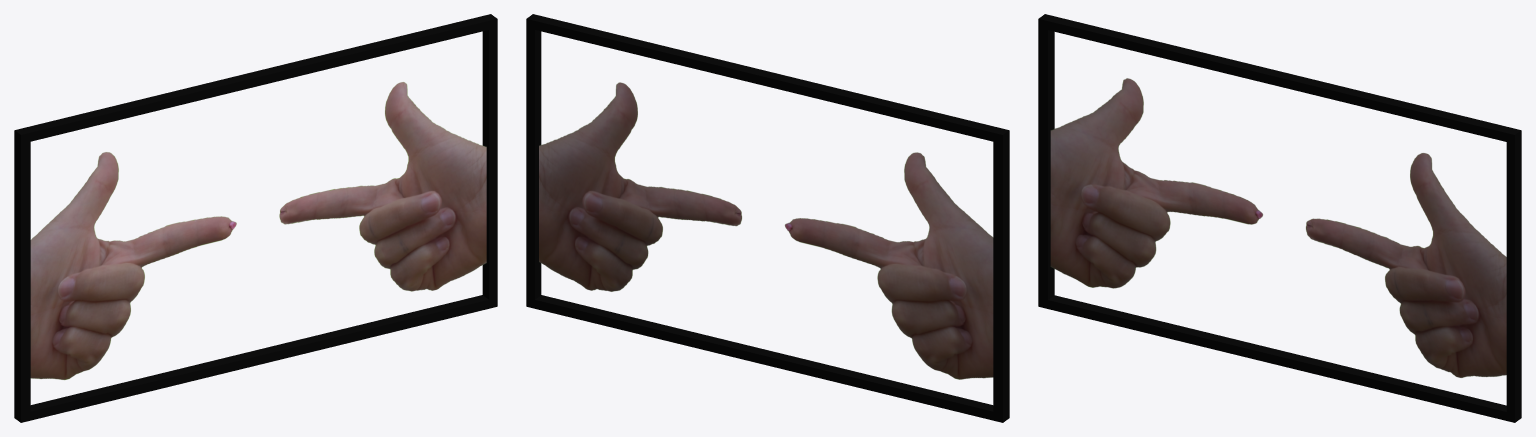
The model's file is thefight.glb.
3 views of the same model, side by side, from view 1: azimuth 30°, elevation 25°; view 2: azimuth 150°, elevation 25°; view 3: azimuth 330°, elevation 25° (orthographic).
Parts seen in each view (by area): view 1: videotarget, the fight greenscreen.002; view 2: videotarget, the fight greenscreen.002; view 3: videotarget, the fight greenscreen.002.
Part boxes in pixels (box(x1,y1,x2,y2)): videotarget: box(30, 82, 486, 380); the fight greenscreen.002: box(14, 14, 497, 422); videotarget: box(539, 82, 993, 379); the fight greenscreen.002: box(526, 14, 1009, 422); videotarget: box(1050, 78, 1506, 377); the fight greenscreen.002: box(1038, 14, 1521, 422).
Bounding box in the file's own units: 2.08 × 1.2 × 0.0496.
2 materials, 1 textured.
